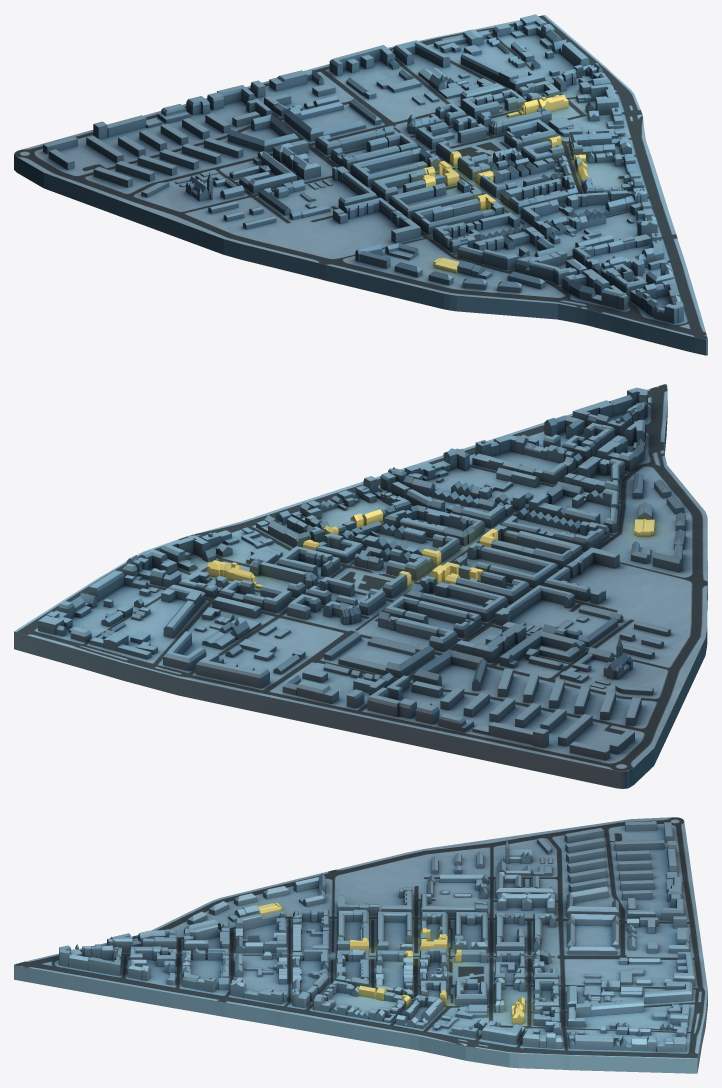
The model's file is Goetheviertel_250812_with-textures_webp25.glb.
The picture shows the model from 3 angles, top to bottom: view 1: azimuth 30°, elevation 25°; view 2: azimuth 150°, elevation 25°; view 3: azimuth 270°, elevation 25°; orthographic projection. The views are drawn at different scales.
Visible parts, largest first — view 1: Buildings, Terrain; view 2: Buildings, Terrain; view 3: Terrain, Buildings.
Boxes of the visible parts, bbox=[...] form: Buildings: bbox=[43, 14, 683, 323]; Terrain: bbox=[14, 15, 707, 355]; Buildings: bbox=[38, 387, 685, 760]; Terrain: bbox=[14, 384, 707, 788]; Terrain: bbox=[14, 817, 707, 1073]; Buildings: bbox=[59, 821, 695, 1052].
Bounding box in the file's own units: 906 × 67.5 × 1099.
2 materials, 2 textured.
